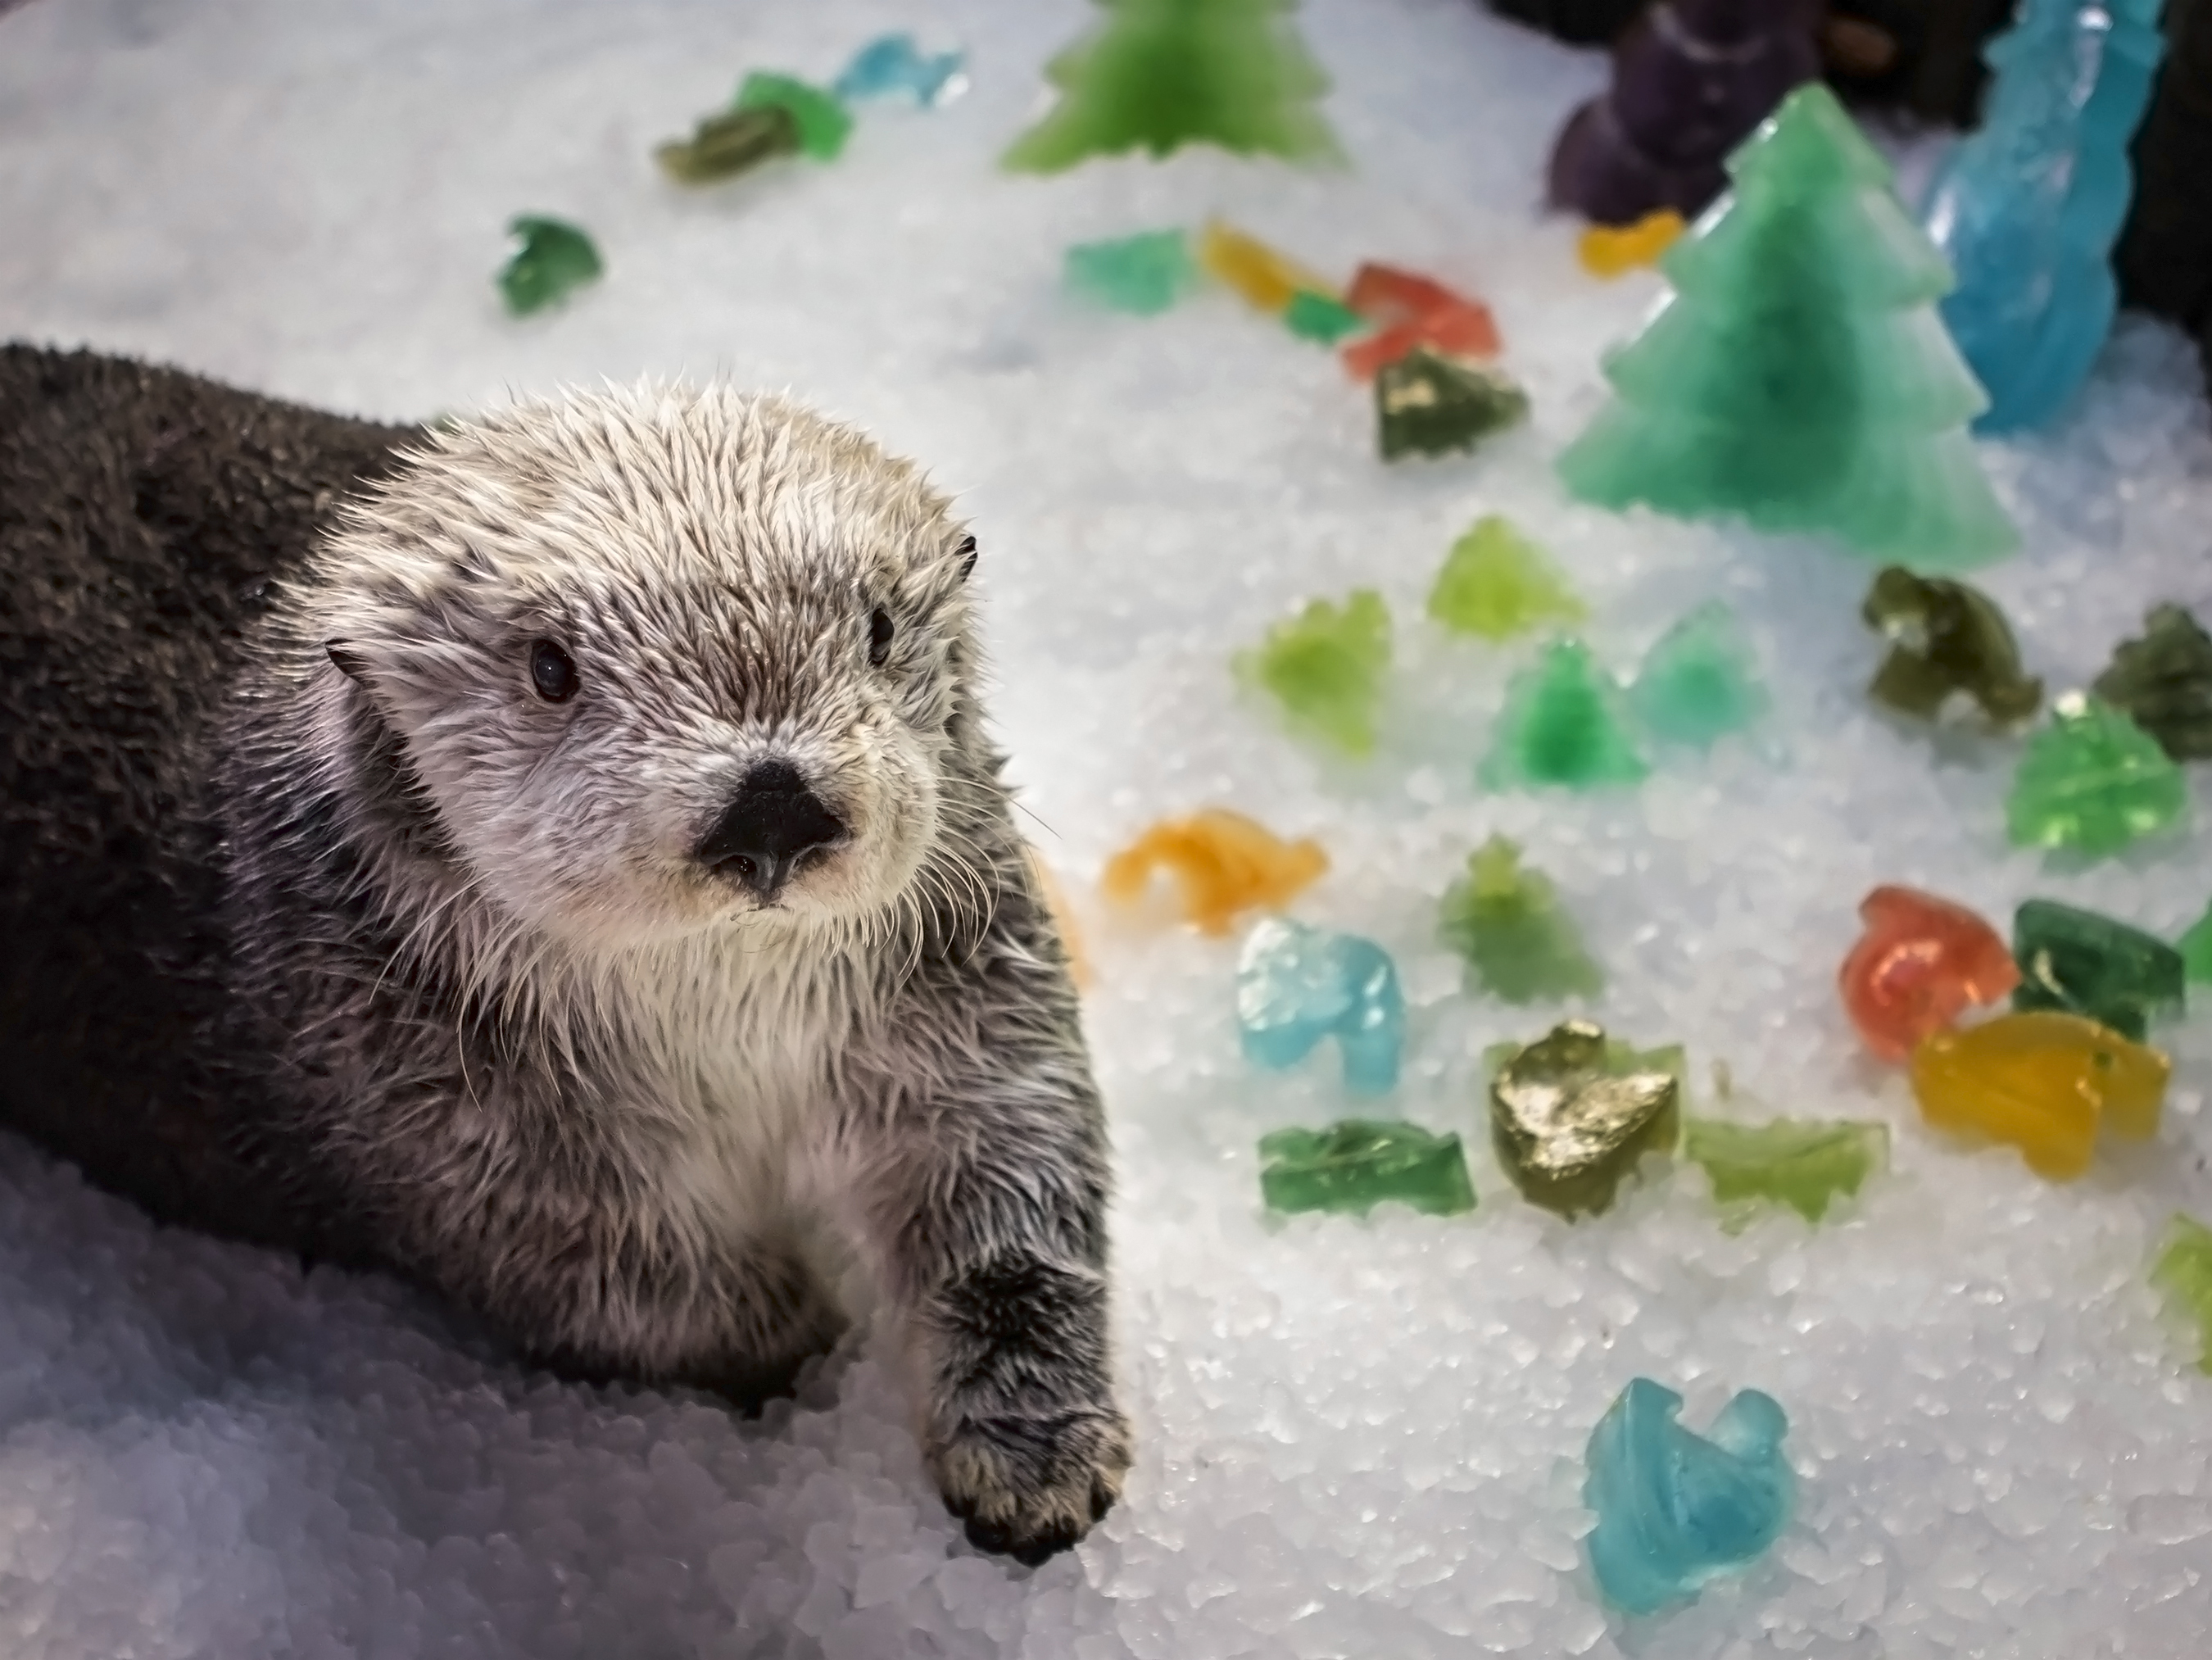otter: (0, 216, 1344, 1592)
